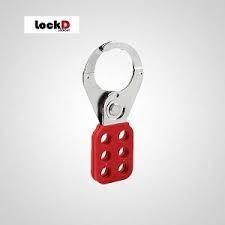hasp: (82, 41, 144, 185)
